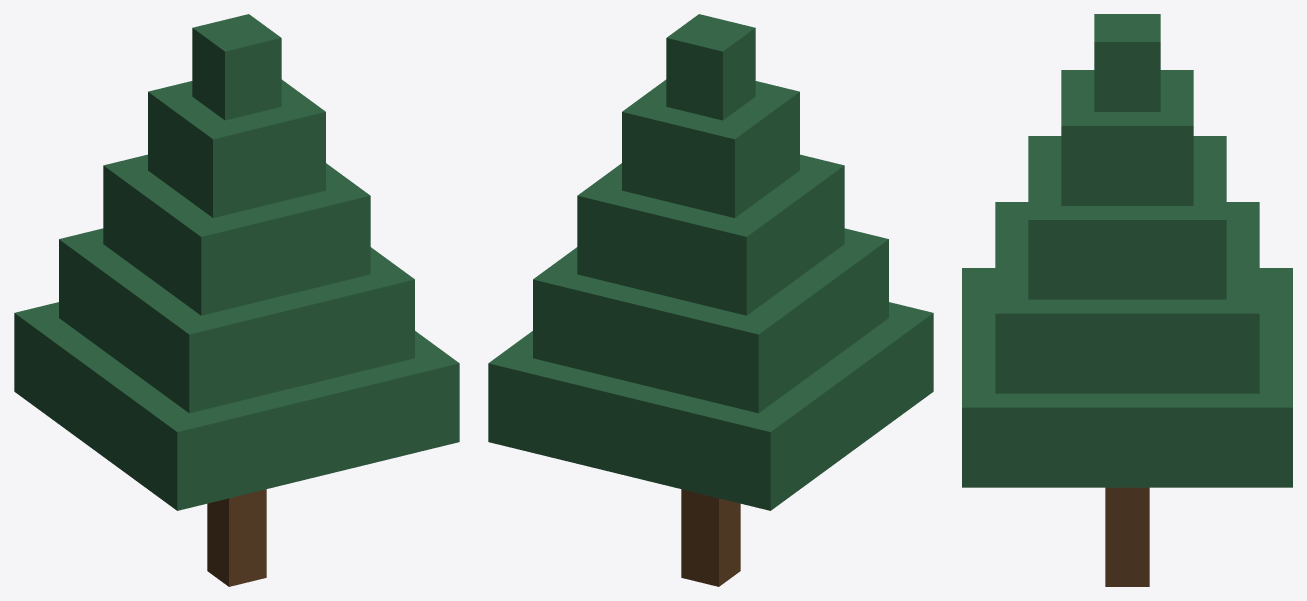
Rendered from tree_pine.glb.
The picture shows the model from 3 angles, left to right: view 1: azimuth 30°, elevation 25°; view 2: azimuth 150°, elevation 25°; view 3: azimuth 270°, elevation 25°; orthographic projection.
Parts seen in each view (by area): view 1: TreePine; view 2: TreePine; view 3: TreePine.
Boxes of the visible parts, left/top/right/bottom form: TreePine: left=14, top=14, right=459, bottom=586; TreePine: left=488, top=14, right=933, bottom=586; TreePine: left=962, top=14, right=1292, bottom=586.
Bounding box in the file's own units: 3 × 5.5 × 3.
